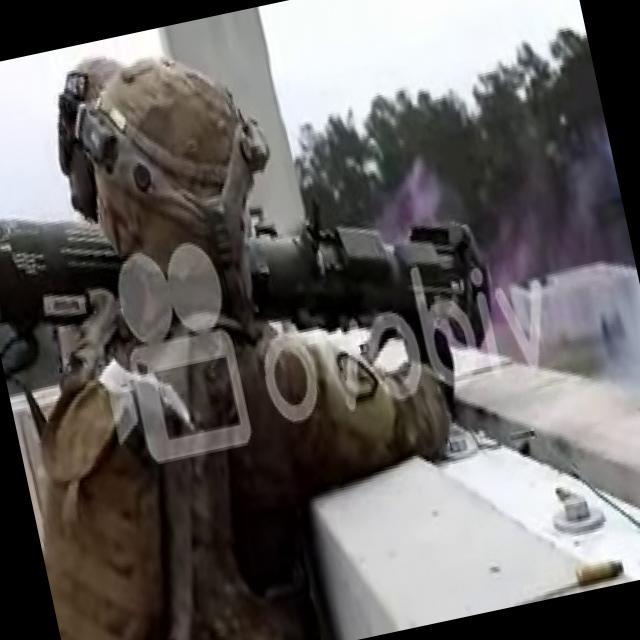rocket: (0, 126, 498, 442)
